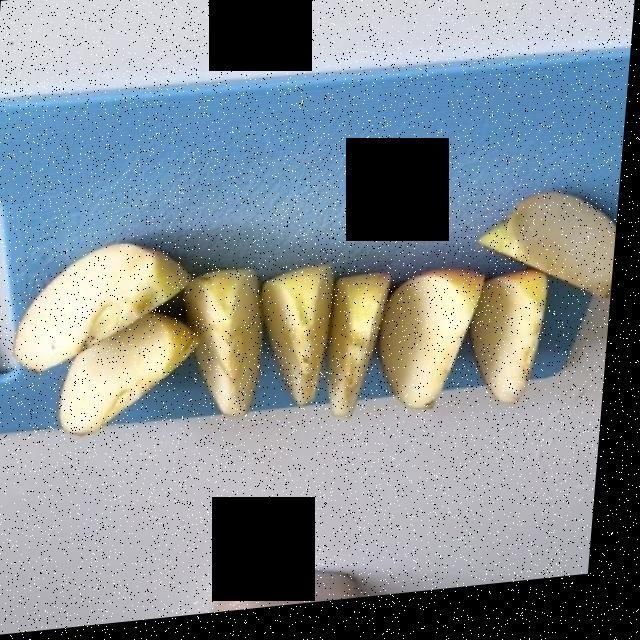apple: (22, 200, 612, 437)
